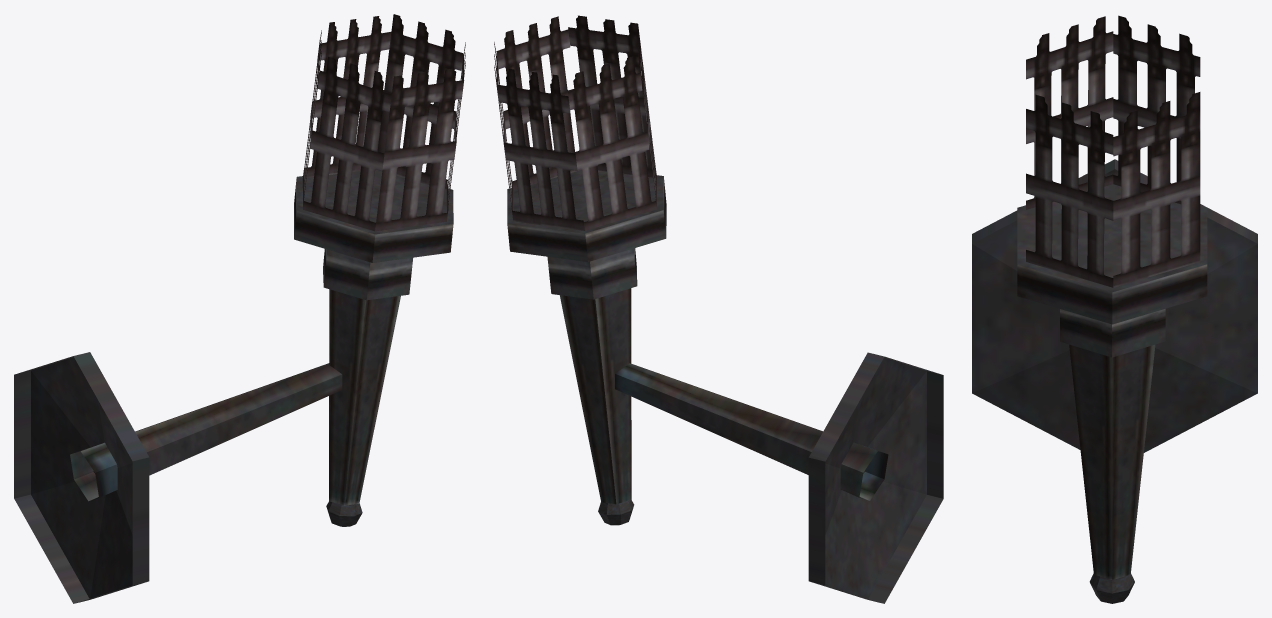
The model's file is skwallsconceChmesh.obj.
The picture shows the model from 3 angles, left to right: view 1: azimuth 30°, elevation 25°; view 2: azimuth 150°, elevation 25°; view 3: azimuth 270°, elevation 25°; orthographic projection. The views are drawn at different scales.
Bounding box in the file's own units: 44.02 × 52.55 × 23.06.
1 material, 1 textured.
